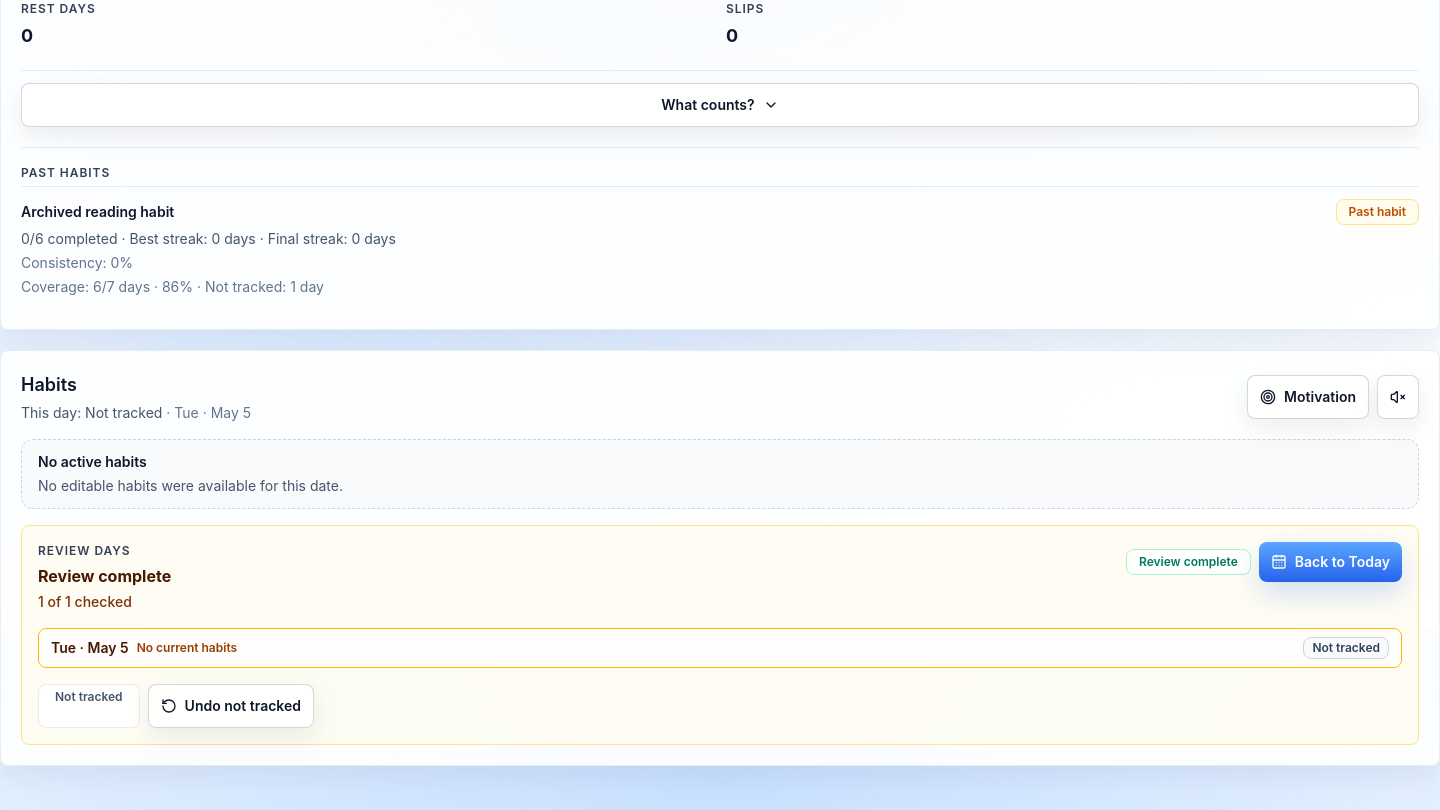
HabitPerfectDayHub › keeps Undo visible for the selected saved status after its Habit is archived
(page scrolled)
Expected: the list item with test id "habits-absence-review-date-2026-05-05" shows "No current habits", [137,640,237,654]
Expected: the list item with test id "habits-absence-review-date-2026-05-05" shows "Not tracked", [1312,640,1380,654]
Click the button "Undo not tracked": {"x": 231, "y": 706} [148,684,314,728]
(page scrolled)
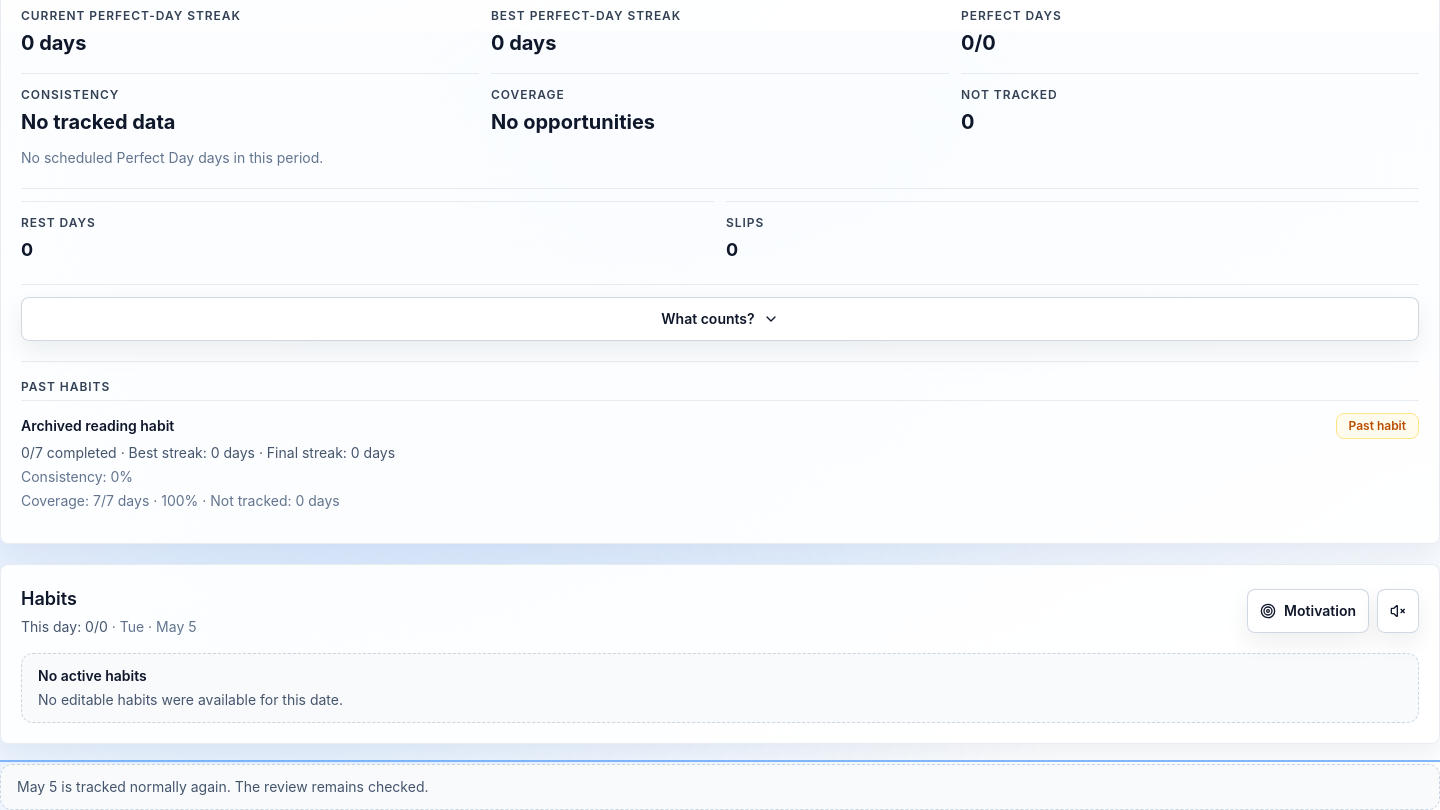
Expected: the element with test id "habits-selected-absence-review" is gone
Expected: the message with test id "habits-day-status-notice" shows "The review remains checked.", [17,778,428,794]
